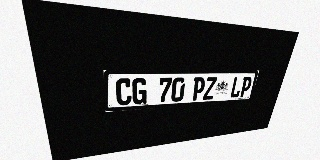0: (171, 77, 186, 102)
7: (157, 78, 172, 103)
C: (116, 78, 132, 106)
G: (132, 78, 147, 105)
L: (229, 77, 244, 98)
P: (191, 77, 206, 101), (239, 77, 253, 97)
Z: (203, 77, 217, 100)
